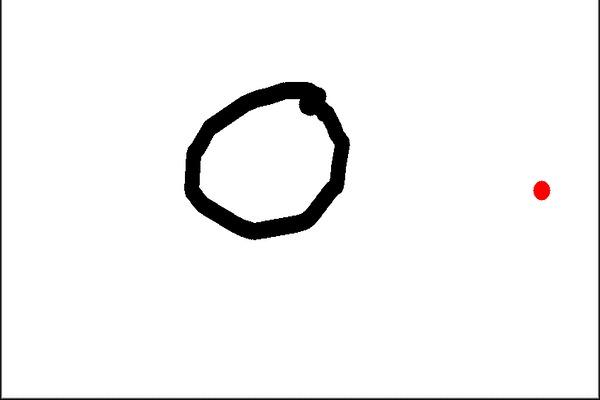O: (170, 68, 359, 248)
